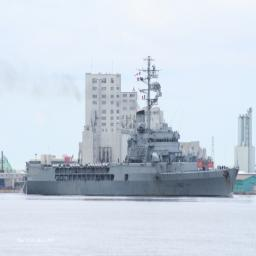Portanaves: (23, 45, 242, 197)
